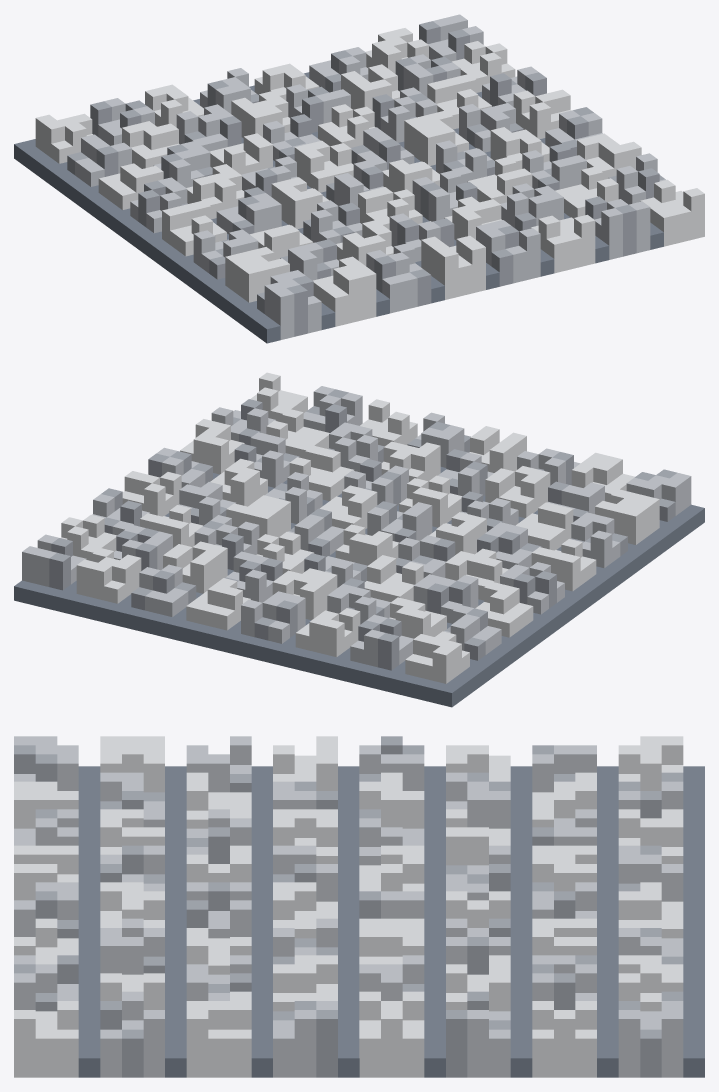
Rendered from stone_tile.glb.
The picture shows the model from 3 angles, top to bottom: view 1: azimuth 30°, elevation 25°; view 2: azimuth 150°, elevation 25°; view 3: azimuth 270°, elevation 25°; orthographic projection. The views are drawn at different scales.
Size of the model in its own units: 3.2 by 0.3 by 3.2.
